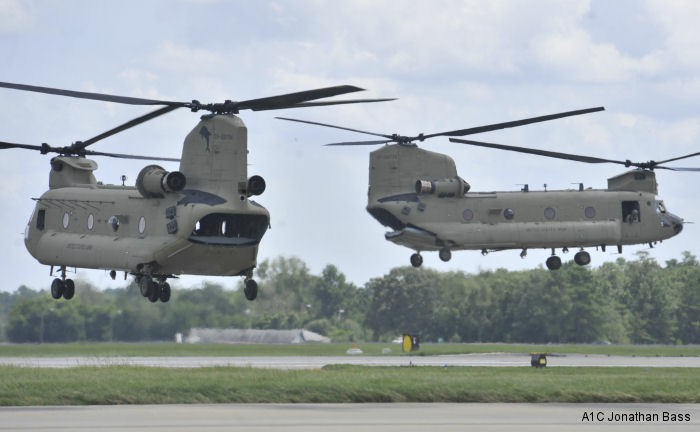chinook: (2, 80, 333, 304), (337, 109, 696, 271)
